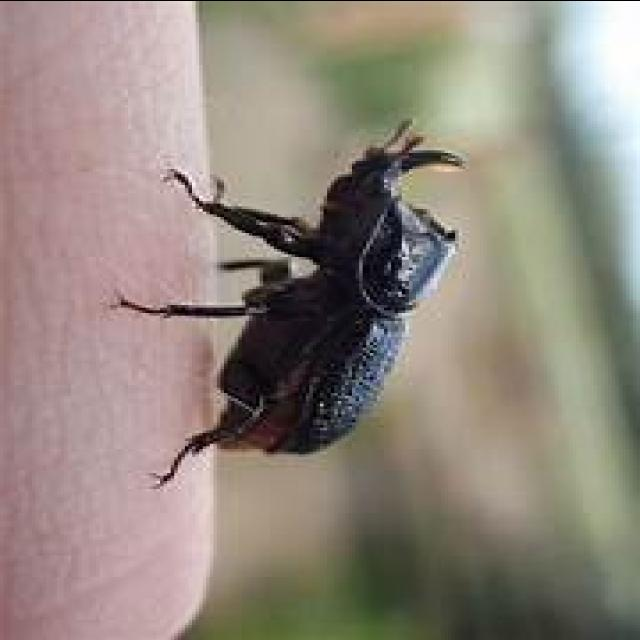Rhino-beetle: (76, 120, 518, 520)
